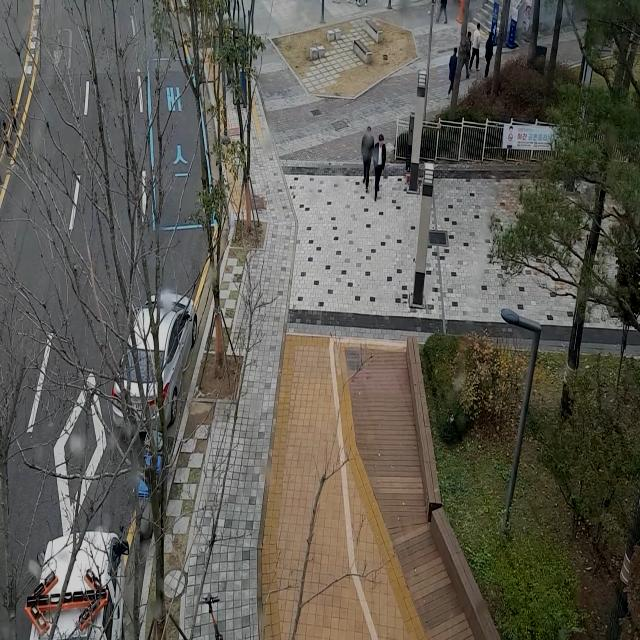Car: (98, 260, 212, 457)
Truck: (6, 512, 127, 640)
